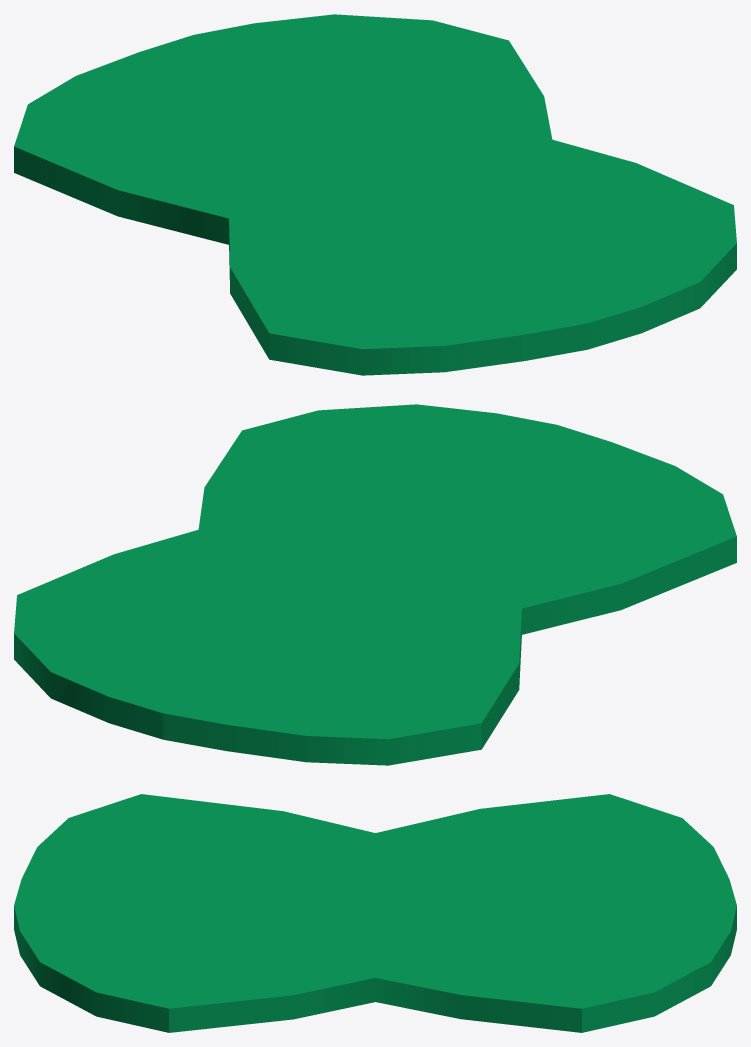
The model's file is Green02.fbx.
3 views of the same model, one above another, from view 1: azimuth 30°, elevation 25°; view 2: azimuth 150°, elevation 25°; view 3: azimuth 270°, elevation 25° (orthographic). The views are drawn at different scales.
Visible parts, largest first — view 1: polySurface3; view 2: polySurface3; view 3: polySurface3.
Boxes of the visible parts, x1,y1,x2,y2 form: polySurface3: (14,14,736,375); polySurface3: (14,404,736,765); polySurface3: (14,794,736,1032).
Bounding box in the file's own units: 19.05 × 1 × 27.1.
